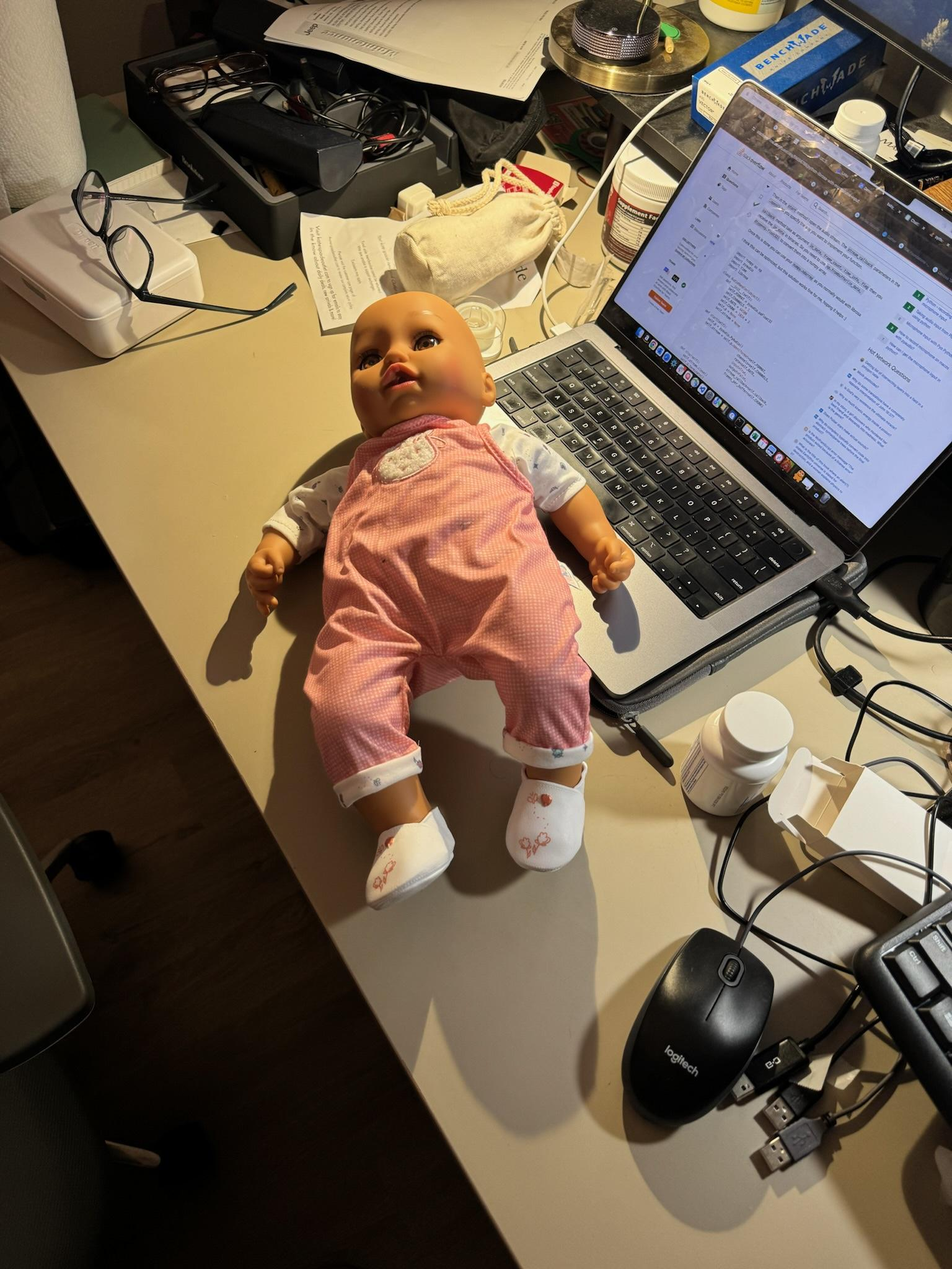baby: (244, 281, 634, 901)
